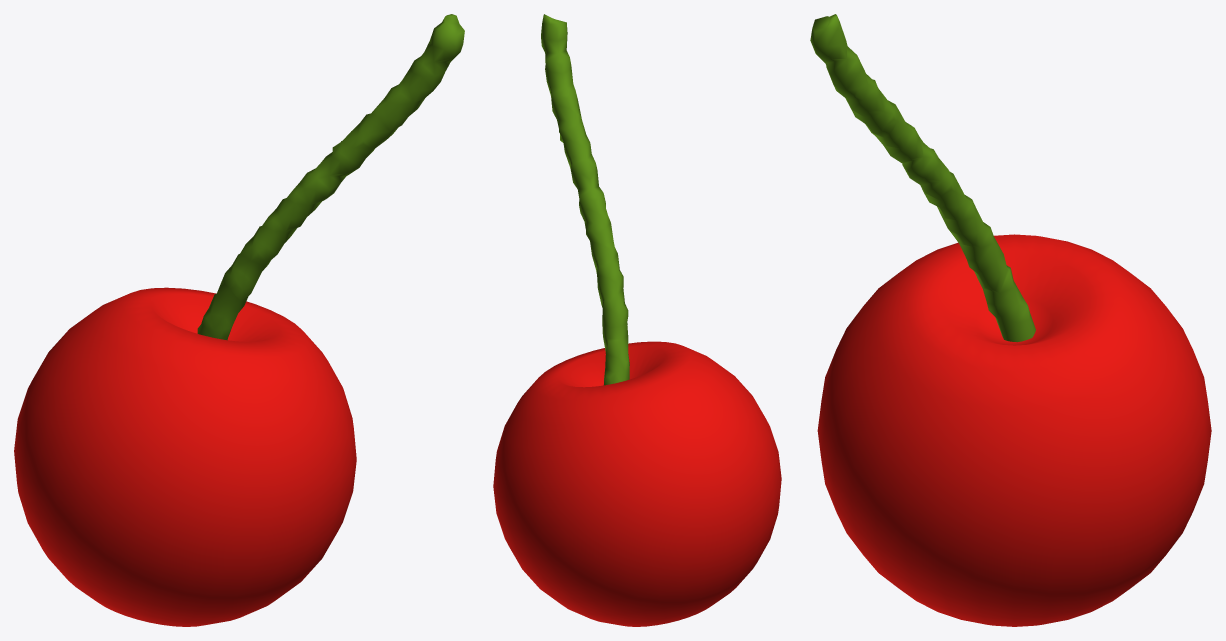
The model's file is cherries.glb.
3 views of the same model, side by side, from view 1: azimuth 30°, elevation 25°; view 2: azimuth 150°, elevation 25°; view 3: azimuth 270°, elevation 25° (orthographic). The views are drawn at different scales.
Visible parts, largest first — view 1: Sphere; view 2: Sphere; view 3: Sphere.
Part boxes in pixels (x1,y1,x2,y2): Sphere: (14, 14, 464, 626); Sphere: (493, 14, 781, 626); Sphere: (810, 14, 1211, 626).
Bounding box in the file's own units: 1.17 × 1.98 × 1.03.
